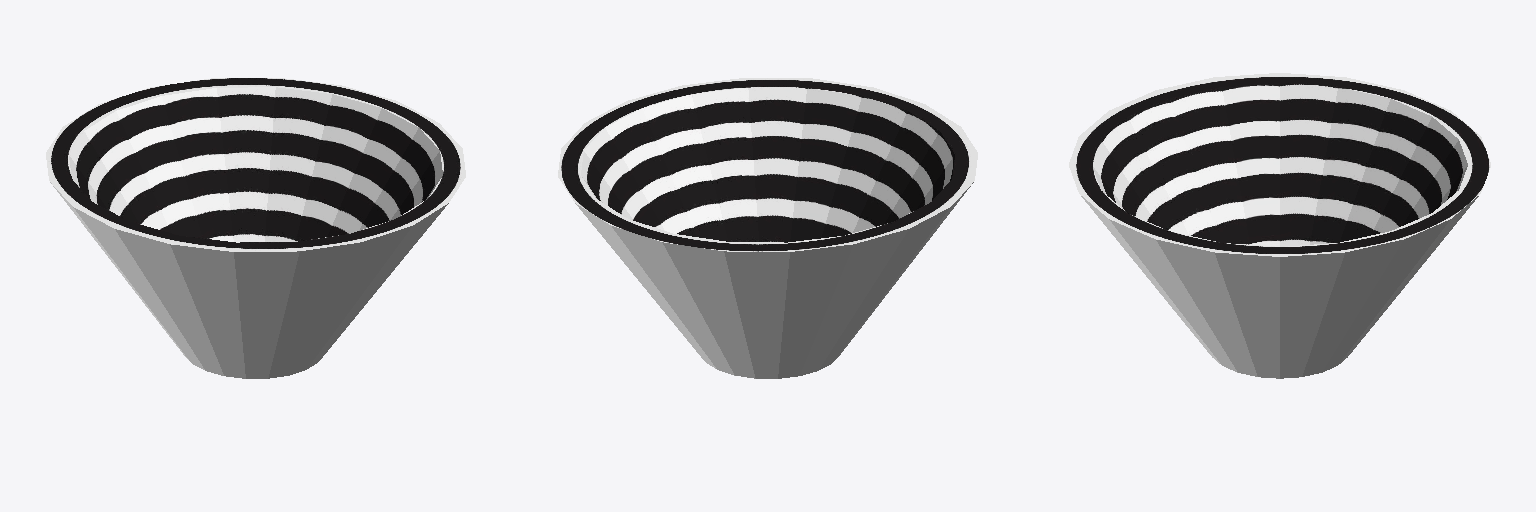
The picture shows the model from 3 angles: view 1: azimuth 30°, elevation 25°; view 2: azimuth 150°, elevation 25°; view 3: azimuth 270°, elevation 25°; orthographic projection.
Visible parts, largest first — view 1: funnel.003; view 2: funnel.003; view 3: funnel.003.
Part boxes in pixels (x1,y1,x2,y2): funnel.003: (46,78,465,378); funnel.003: (558,78,977,378); funnel.003: (1069,73,1490,378).
Size of the model in its own units: 0.2108 by 0.1032 by 0.2108.
Materials: 1 (1 with a texture image).